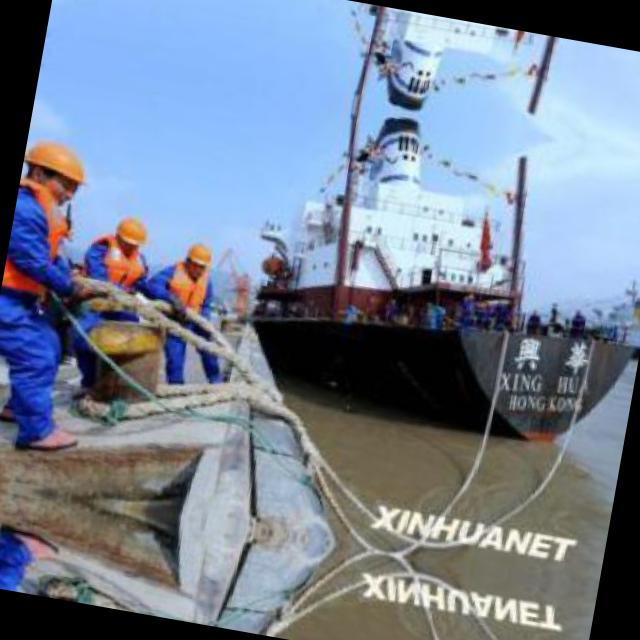helmet: (18, 132, 94, 212), (106, 212, 150, 260), (177, 235, 216, 280)
